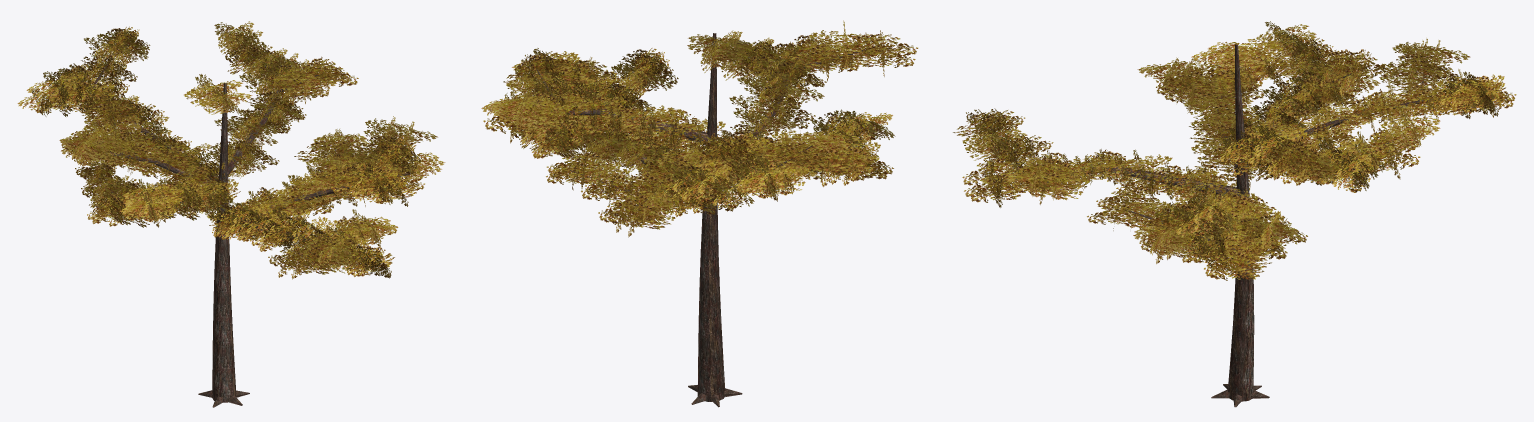
Rendered from tree_3d_05_yellow_lod0.glb.
3 renders of one model, left to right at view 1: azimuth 30°, elevation 25°; view 2: azimuth 150°, elevation 25°; view 3: azimuth 270°, elevation 25°, orthographic. The views are drawn at different scales.
Parts seen in each view (by area): view 1: foliage_cards, wood_geometry; view 2: foliage_cards, wood_geometry; view 3: foliage_cards, wood_geometry.
Part boxes in pixels (left/top/right/bottom): foliage_cards: left=17, top=21, right=445, bottom=279; wood_geometry: left=51, top=46, right=410, bottom=407; foliage_cards: left=481, top=20, right=918, bottom=237; wood_geometry: left=536, top=33, right=870, bottom=407; foliage_cards: left=953, top=21, right=1516, bottom=280; wood_geometry: left=990, top=44, right=1451, bottom=407.
Size of the model in its own units: 9.84 by 8.94 by 12.95.
Materials: 2 (2 with a texture image).
